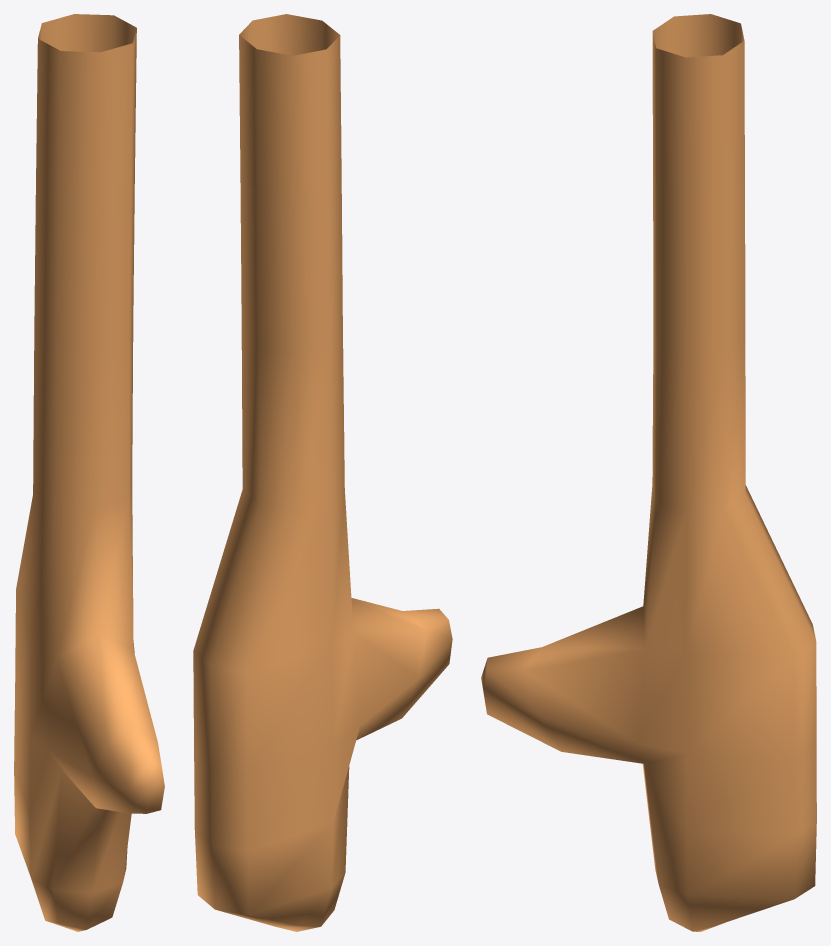
Rendered from floating arm.fbx.
The picture shows the model from 3 angles, left to right: view 1: azimuth 30°, elevation 25°; view 2: azimuth 150°, elevation 25°; view 3: azimuth 270°, elevation 25°; orthographic projection.
Visible parts, largest first — view 1: Cube; view 2: Cube; view 3: Cube.
Boxes of the visible parts, bbox=[...] form: Cube: bbox=[14, 14, 164, 931]; Cube: bbox=[193, 14, 452, 931]; Cube: bbox=[481, 14, 816, 931].
Bounding box in the file's own units: 5.55 × 42.89 × 14.49.
